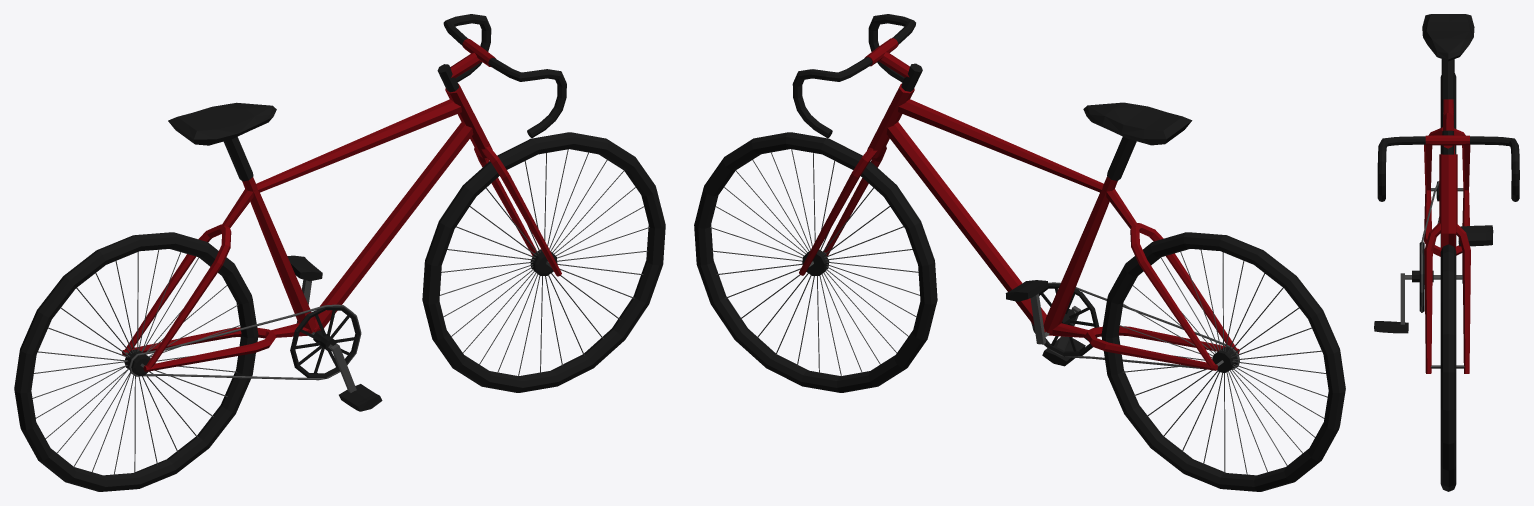
The model's file is bike.obj.
3 renders of one model, left to right at view 1: azimuth 30°, elevation 25°; view 2: azimuth 150°, elevation 25°; view 3: azimuth 270°, elevation 25°, orthographic. The views are drawn at different scales.
Parts seen in each view (by area): view 1: Torus003, Torus004, Cylinder003, Cylinder004, Box008, Line006, Line010, Cylinder002, Line008, Line004, Line005, Torus001 (+2 smaller); view 2: Torus003, Torus004, Cylinder003, Cylinder004, Box008, Line006, Line010, Cylinder002, Line004, Line008, Cylinder001, Line005; view 3: Torus003, Line008, Box008, Line010, Cylinder001, Line006, Line004, Box009, Cone079, Cylinder008, Box007, Torus004 (+6 smaller).
Part boxes in pixels (box(x1,y1,x2,y2)): Torus003: box(422, 132, 665, 392); Torus004: box(14, 232, 258, 491); Cylinder003: box(314, 122, 473, 332); Cylinder004: box(256, 99, 461, 192); Box008: box(168, 102, 276, 145); Line006: box(125, 224, 231, 368); Line010: box(443, 14, 566, 137); Cylinder002: box(242, 177, 316, 333); Line008: box(474, 146, 561, 276); Line004: box(122, 327, 276, 371); Line005: box(129, 304, 361, 380); Torus001: box(290, 306, 360, 378); Torus003: box(694, 132, 937, 392); Torus004: box(1101, 232, 1345, 491); Cylinder003: box(886, 122, 1046, 331); Cylinder004: box(898, 99, 1103, 192); Box008: box(1083, 102, 1192, 145); Line006: box(1130, 223, 1236, 367); Line010: box(792, 14, 915, 138); Cylinder002: box(1043, 176, 1117, 333); Line004: box(1085, 326, 1239, 370); Line008: box(799, 146, 886, 275); Cylinder001: box(867, 83, 914, 158); Line005: box(1031, 282, 1239, 369); Torus003: box(1440, 244, 1456, 491); Line008: box(1424, 222, 1470, 373); Box008: box(1422, 14, 1474, 61); Line010: box(1377, 136, 1519, 201); Cylinder001: box(1439, 154, 1457, 233); Line006: box(1424, 127, 1470, 190); Line004: box(1424, 190, 1469, 256); Box009: box(1458, 225, 1493, 246); Cone079: box(1441, 59, 1454, 99); Cylinder008: box(1425, 135, 1469, 145); Box007: box(1374, 321, 1408, 333); Torus004: box(1440, 73, 1456, 247).
Bounding box in the file's own units: 78.56 × 41.36 × 17.25.
